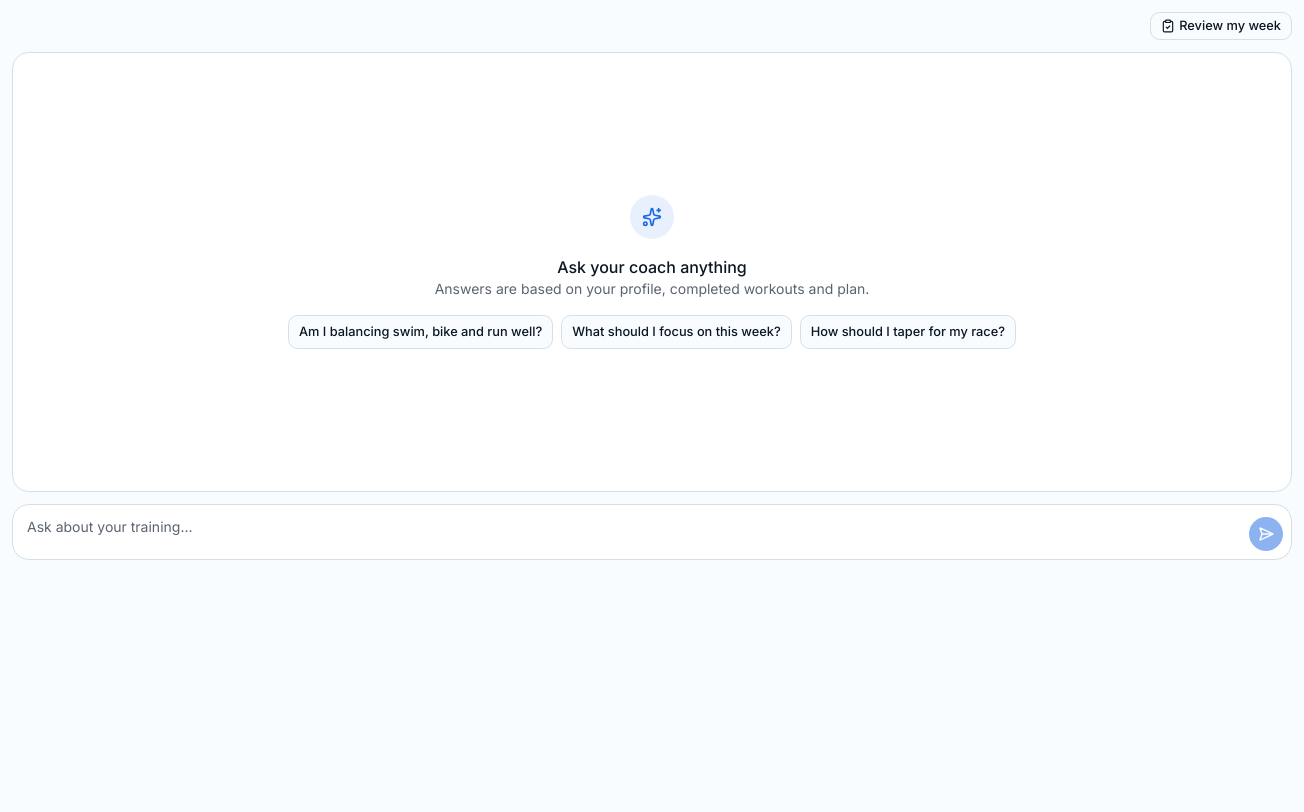
Test: CoachChat › copes with events split across network chunks
The width and height of the screenshot is (1304, 812).
Type "hi" into the text box with placeholder "Ask about your training..." at (652, 532), box 12,504 -> 1292,560
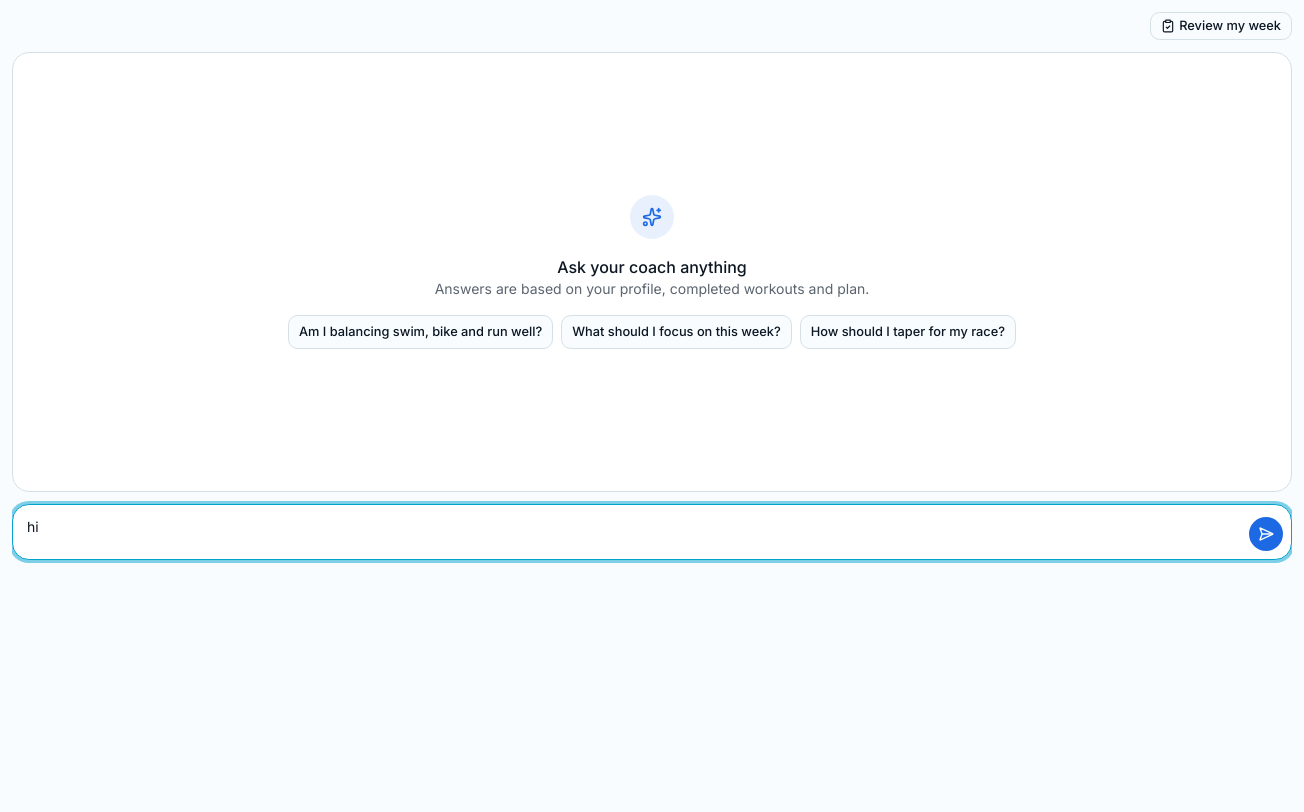
Click the button named "Send" at (1266, 534), box 1248,516 -> 1284,552
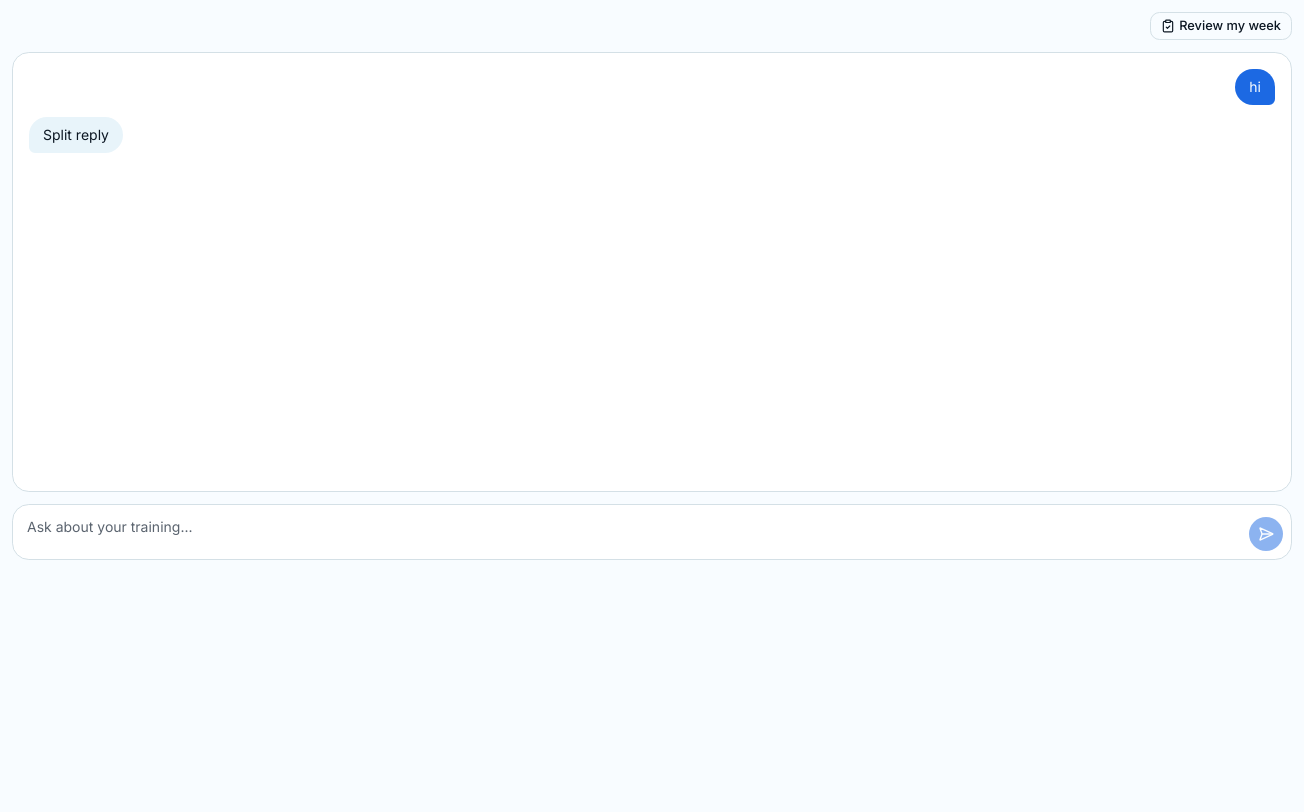
Check: the text "Split reply" is shown, box 43,126 -> 109,143
